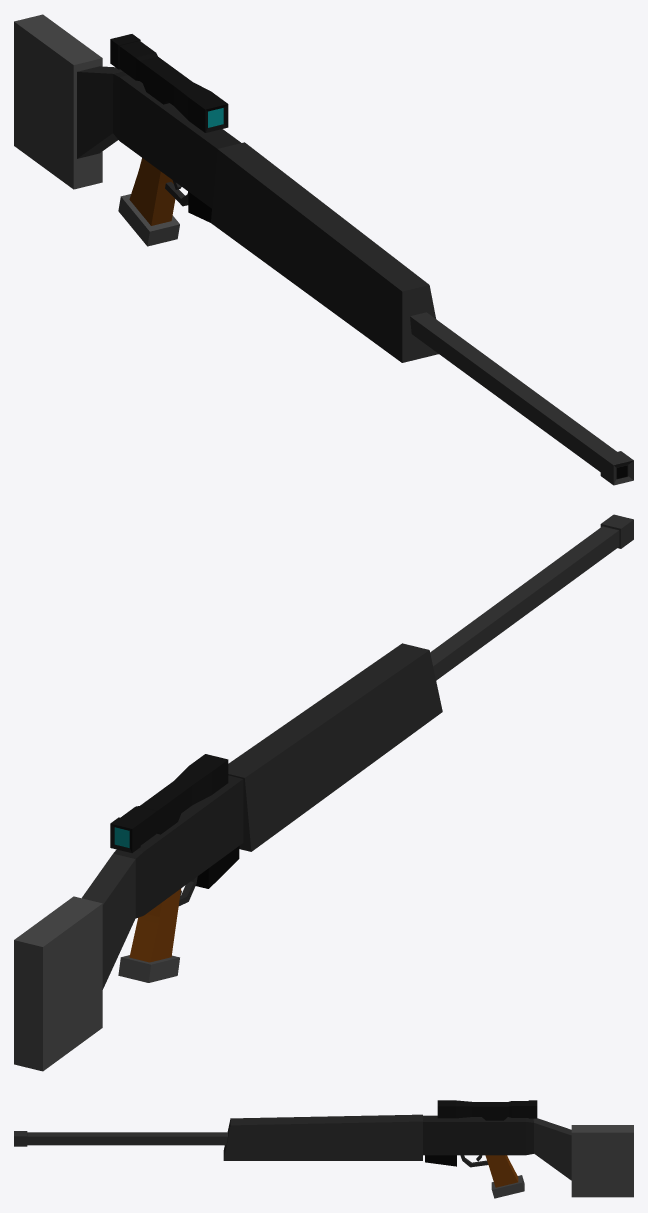
File: sniper.fbx
3 views of the same model, one above another, from view 1: azimuth 30°, elevation 25°; view 2: azimuth 150°, elevation 25°; view 3: azimuth 270°, elevation 25° (orthographic). The views are drawn at different scales.
Visible parts, largest first — view 1: sniper_rifle; view 2: sniper_rifle; view 3: sniper_rifle.
Boxes of the visible parts, x1,y1,x2,y2 form: sniper_rifle: [14, 14, 633, 485]; sniper_rifle: [14, 514, 633, 1071]; sniper_rifle: [14, 1100, 633, 1198].
Size of the model in its own units: 0.0474 by 0.1965 by 1.2.
